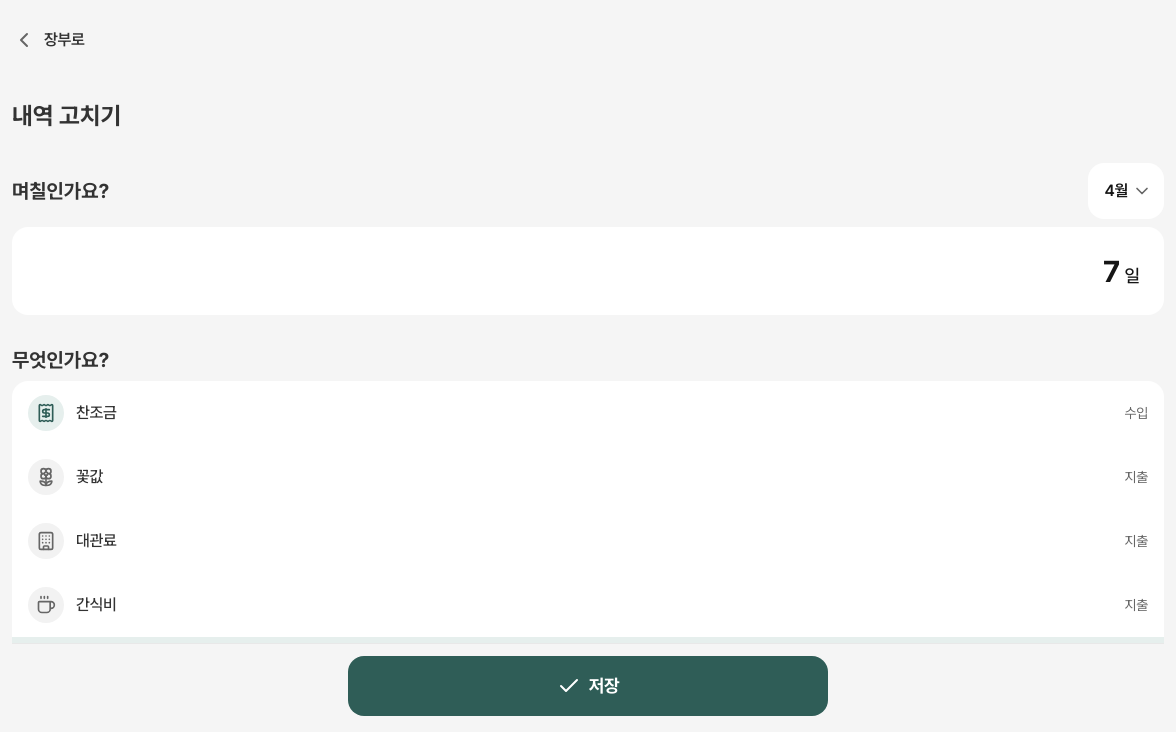
Test: SPEC-001 내역 고치기 (펼친 모양) › AC-25 날짜 › 날짜가 있던 내역의 날을 지우면 [저장] 비활성 + "며칠인지 적어 주세요" (날짜를 떼지 않는다)
Clear the field named "며칠인가요?" at (578, 271), box [36, 243, 1120, 299]
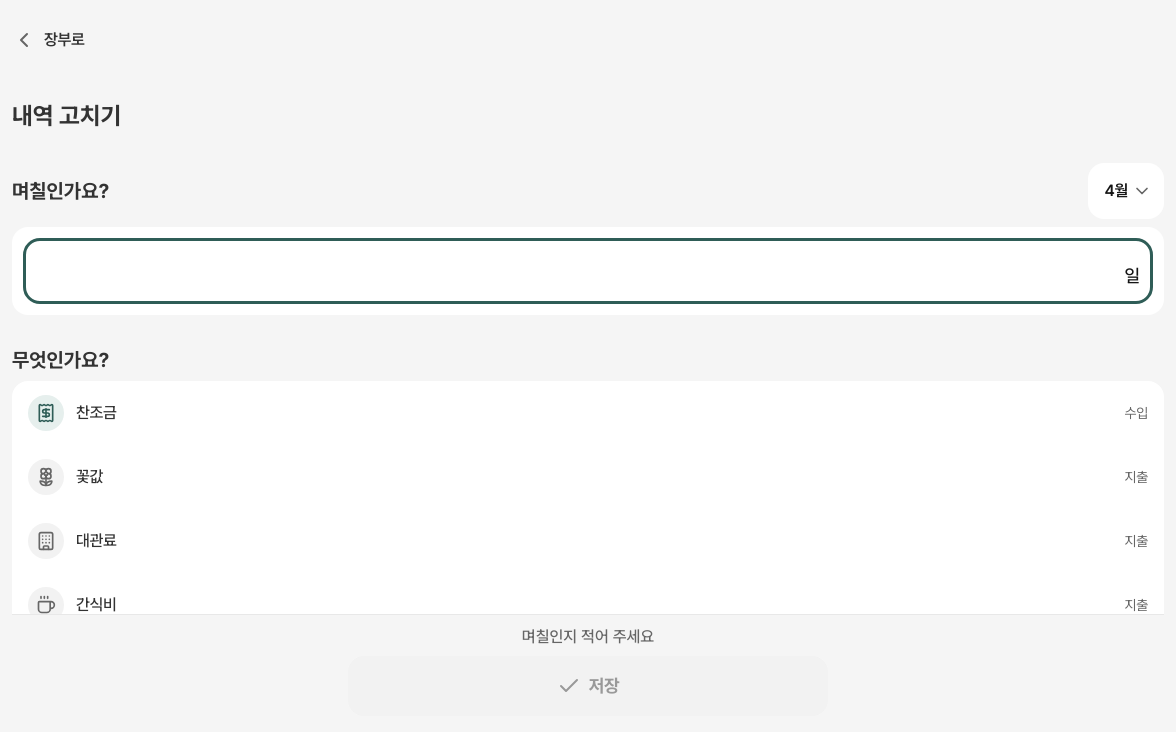
expect the button "저장" is disabled: met, box [348, 656, 828, 716]
